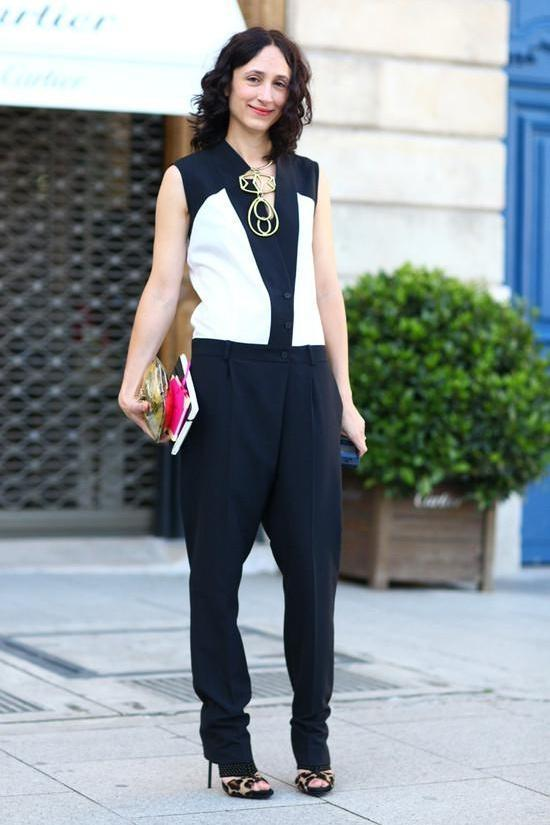pants: (180, 340, 341, 770)
shirt: (168, 143, 325, 348)
